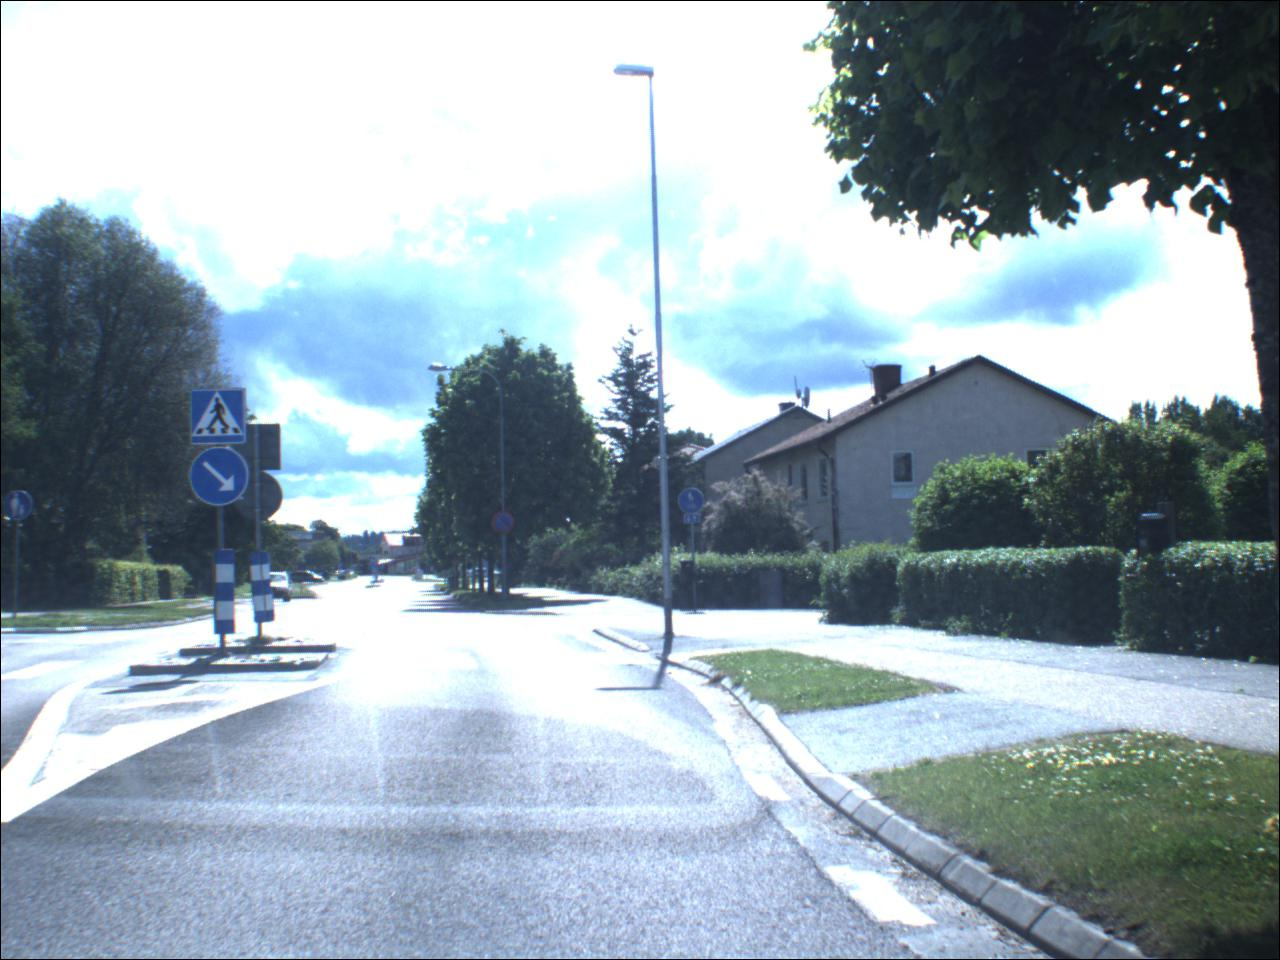NO_PARKING: (491, 512, 517, 538)
PASS_RIGHT_SIDE: (191, 449, 253, 508)
PEDESTRIAN_CROSSING: (195, 391, 248, 445)
